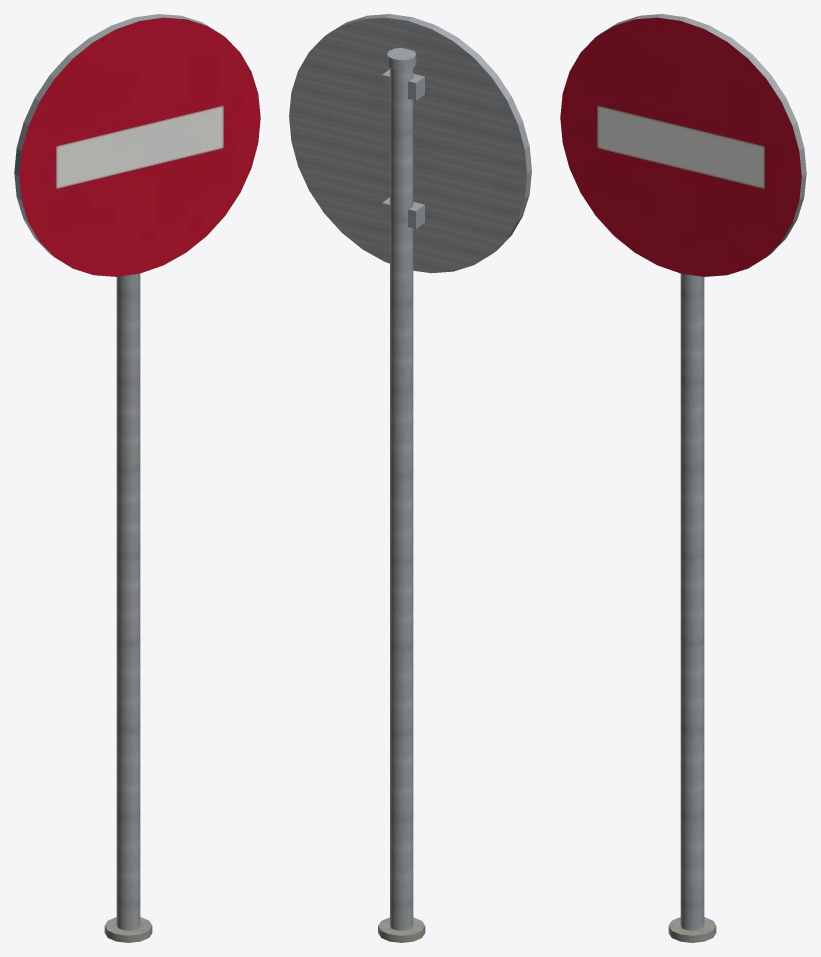
File: panneau_sens_interdit_lod0.glb
3 views of the same model, side by side, from view 1: azimuth 30°, elevation 25°; view 2: azimuth 150°, elevation 25°; view 3: azimuth 330°, elevation 25° (orthographic).
Visible parts, largest first — view 1: panneau_sens_interdit; view 2: panneau_sens_interdit; view 3: panneau_sens_interdit.
Part boxes in pixels (x1=…): panneau_sens_interdit: x1=14, y1=14, x2=260, y2=942; panneau_sens_interdit: x1=289, y1=14, x2=531, y2=942; panneau_sens_interdit: x1=560, y1=14, x2=806, y2=942.
Size of the model in its own units: 0.7 by 2.55 by 0.12.
Materials: 1 (1 with a texture image).
